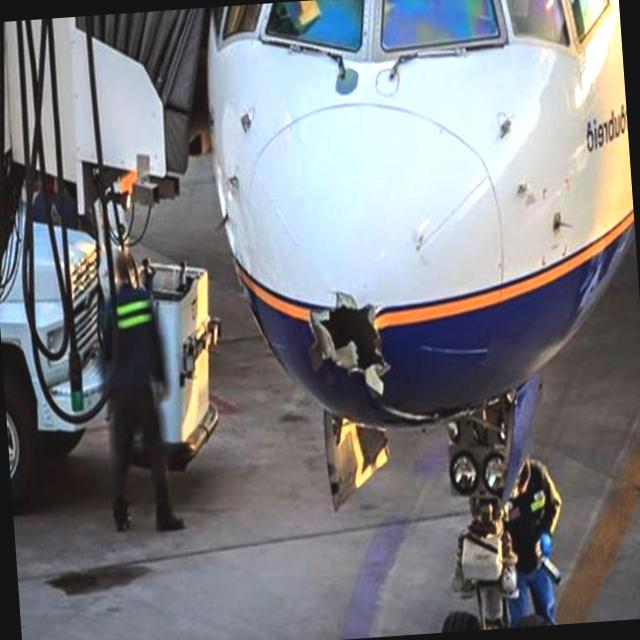crack: (300, 279, 398, 410)
